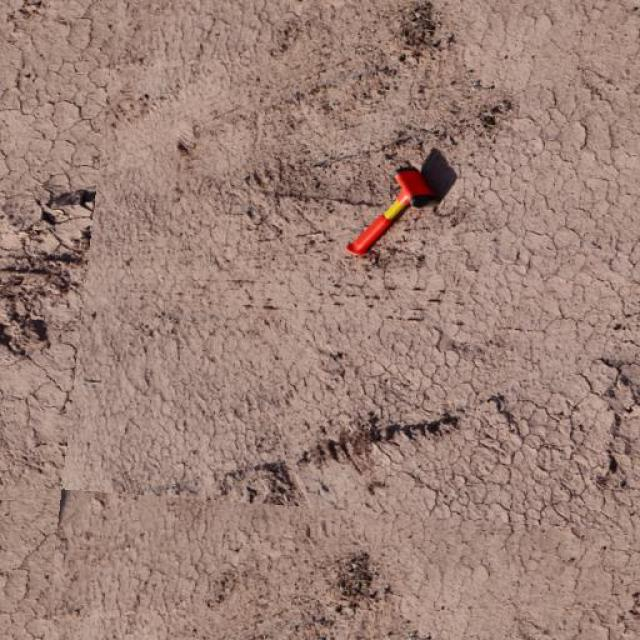mallet: (344, 146, 456, 256)
